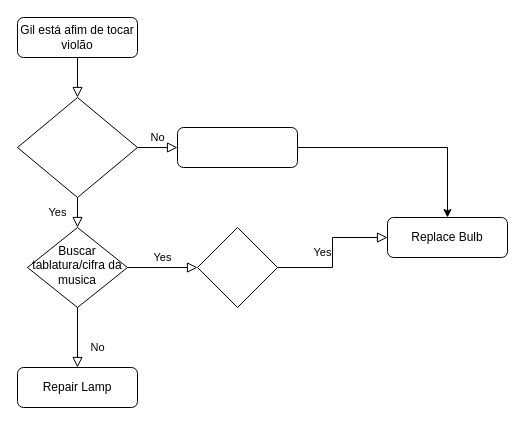
This 525x425 diagram has some shape labels left out. Each missing label, with the centre of its shape:
"Afinar violão" goes at point (237, 147).
"O violão está afinado?" goes at point (77, 147).
